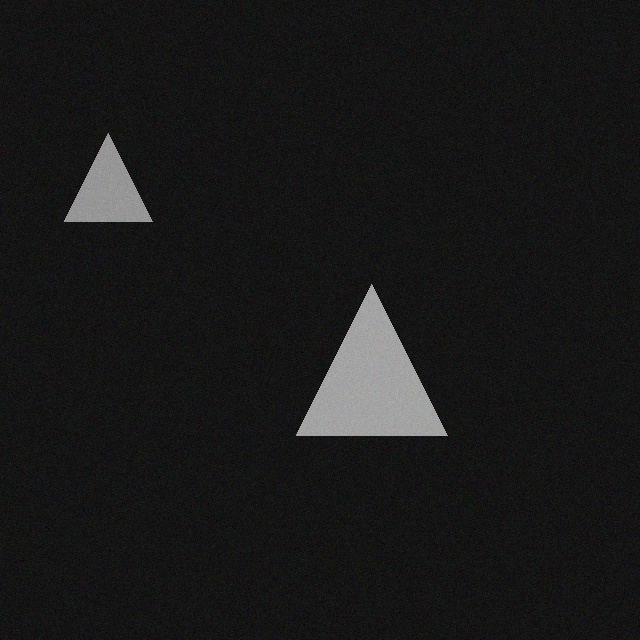triangle: (299, 280, 450, 431), (67, 129, 155, 217)
